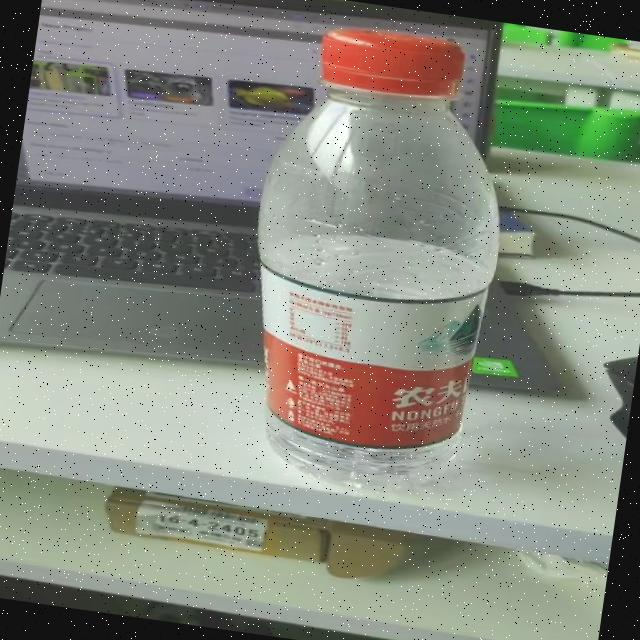bottle: (221, 8, 532, 522)
cap: (312, 21, 468, 111)
label: (247, 268, 487, 454)
